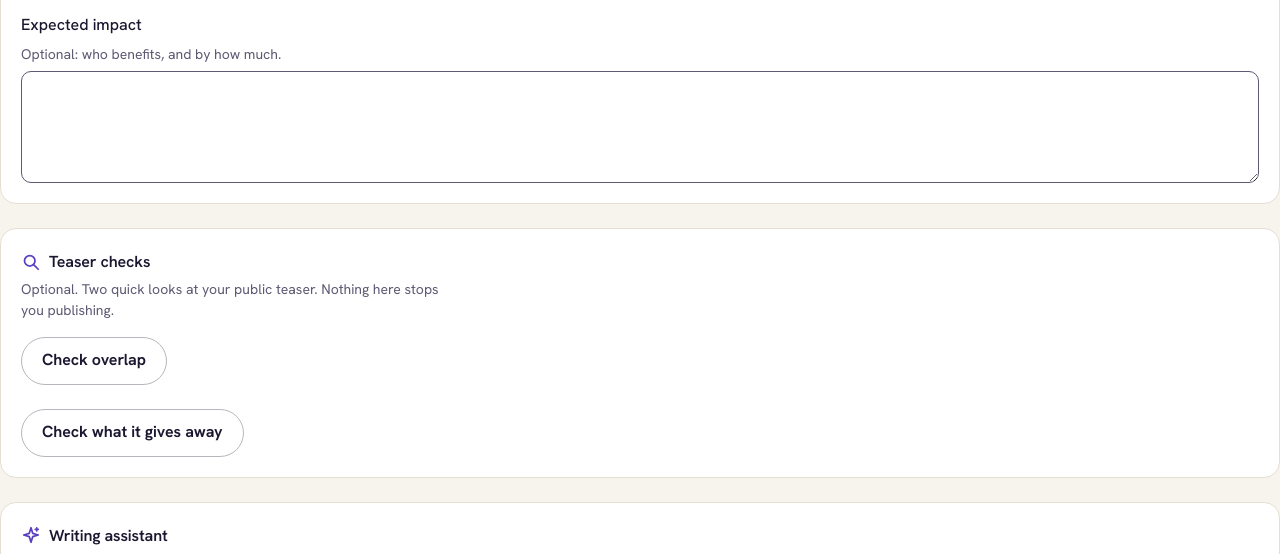
before checking › asks for the teaser first, and sends nothing
(page scrolled)
Click the button "Check overlap" at (94, 361), box [21,337,167,385]
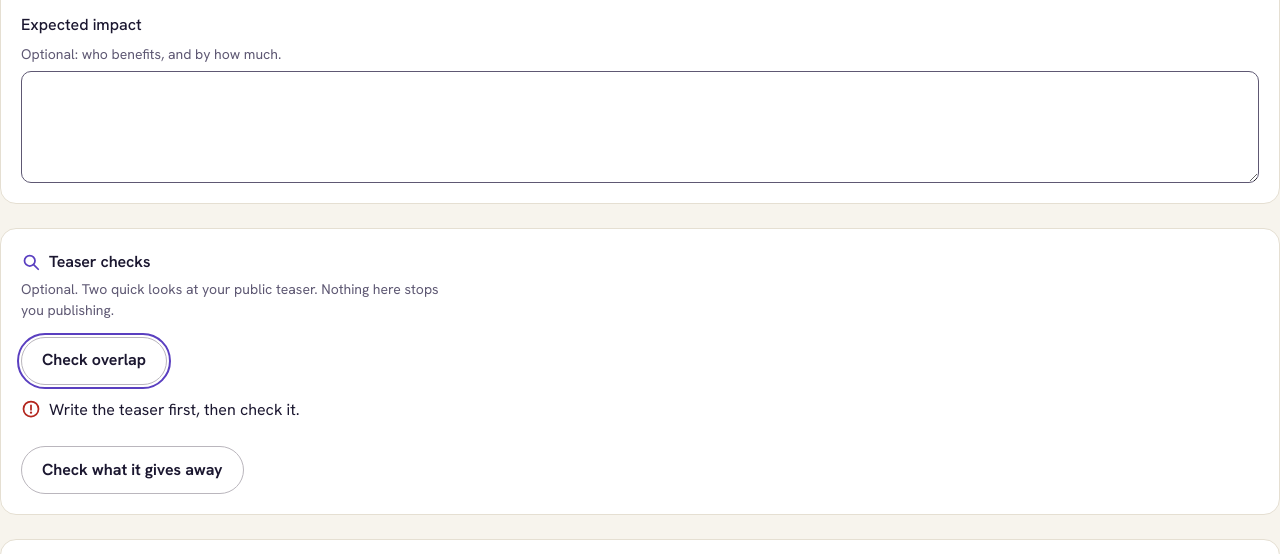
Click the button "Check what it gives away" at (132, 470), box [21,446,244,494]
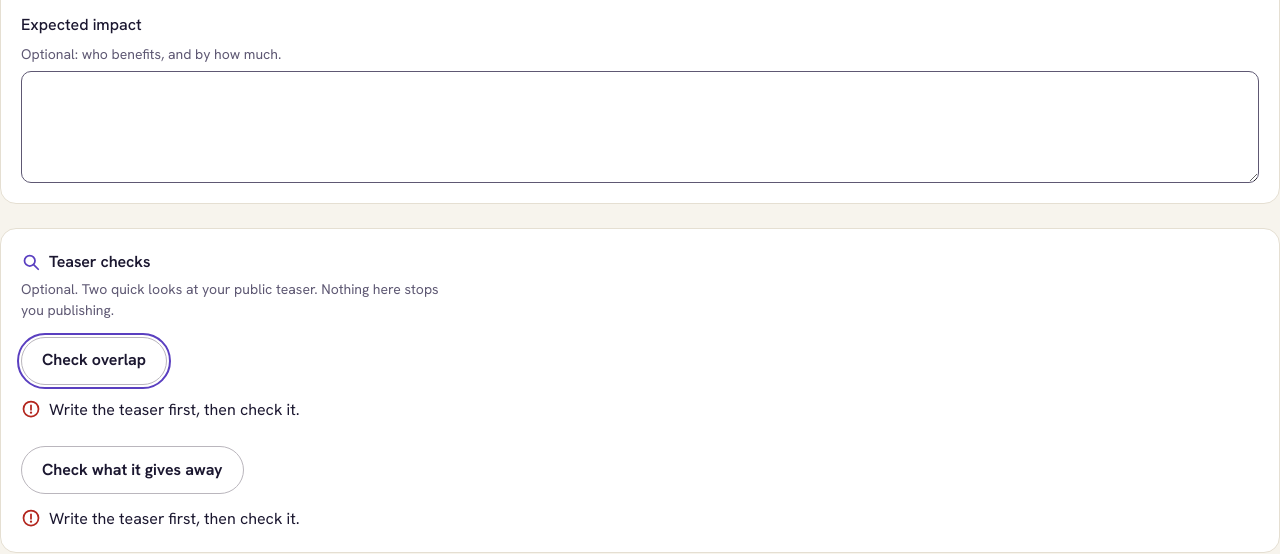
Now the 2nd message "Write the teaser first, then check it." is shown, box [21,506,300,532]
